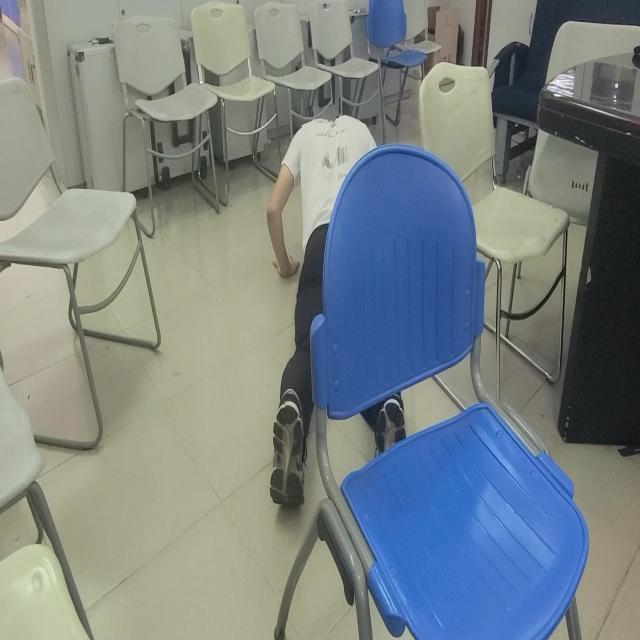Fall-Detected: (266, 115, 407, 512)
